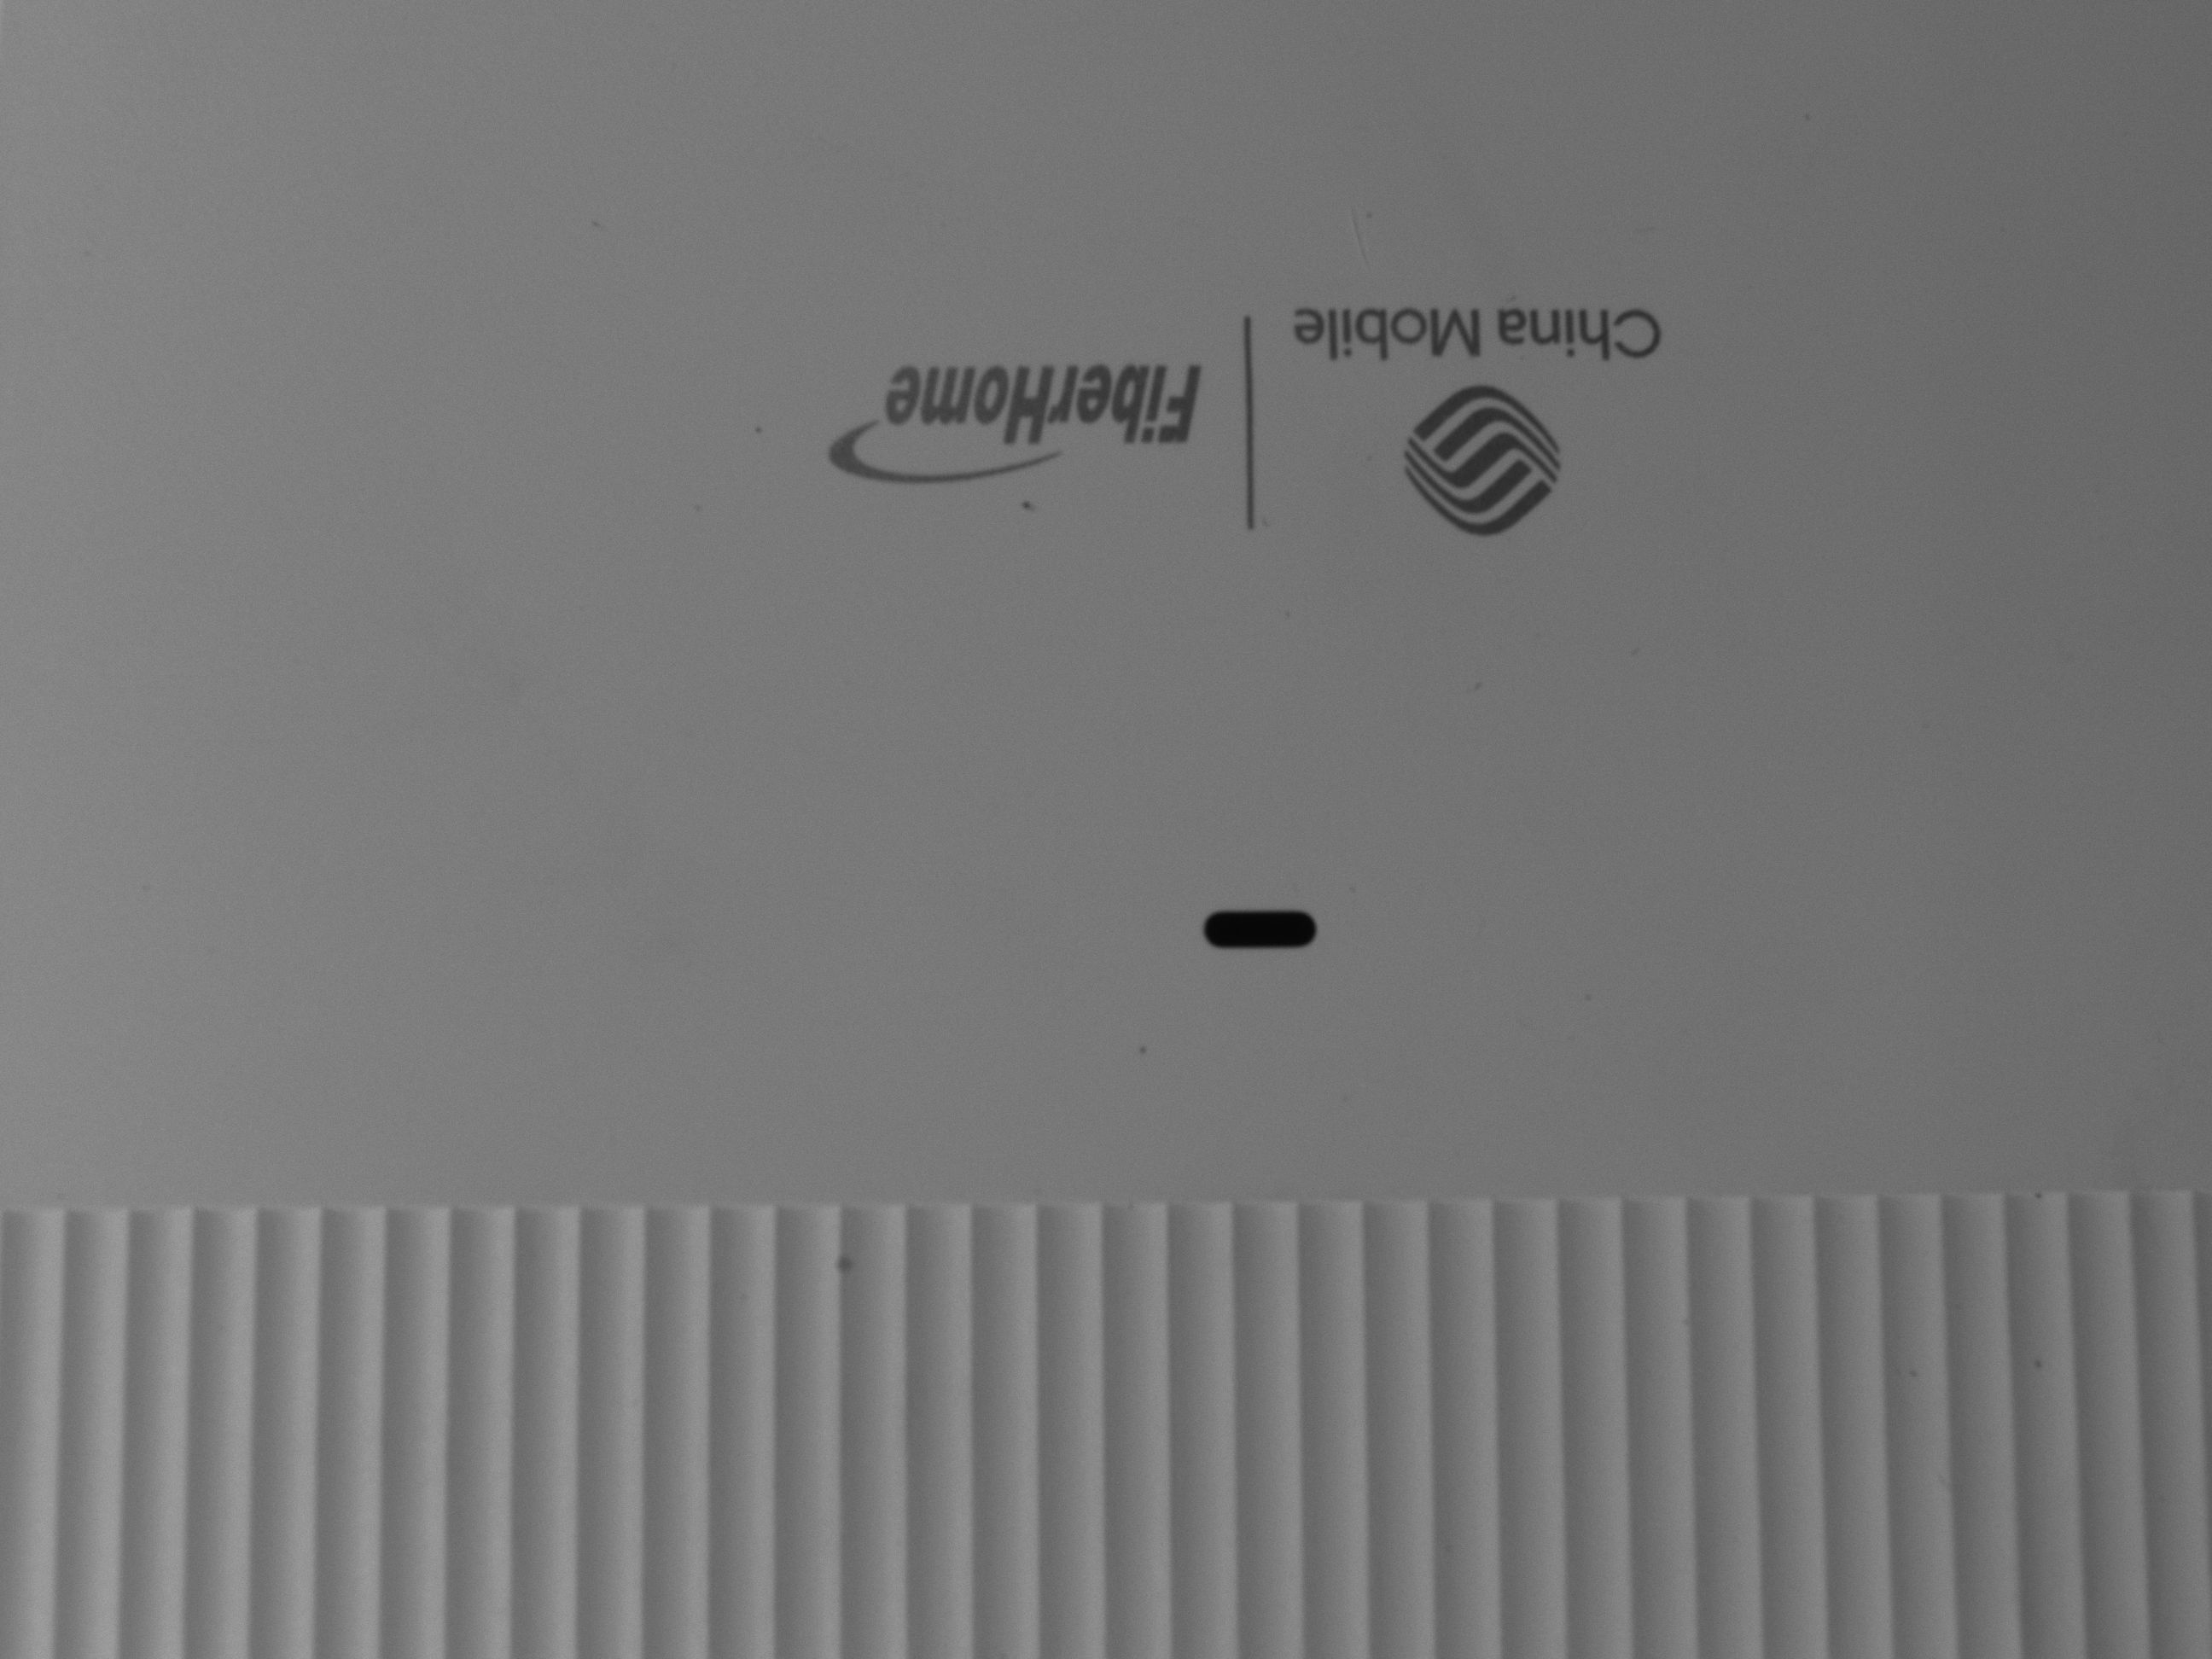BX_HG6371FMobileFiberhome: (824, 244, 1670, 549)
